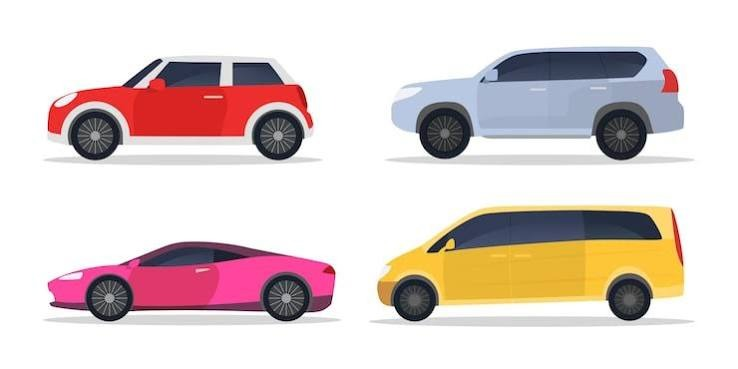car: (382, 207, 680, 325), (401, 43, 690, 158), (42, 52, 319, 165), (51, 50, 318, 161), (47, 242, 330, 321)
